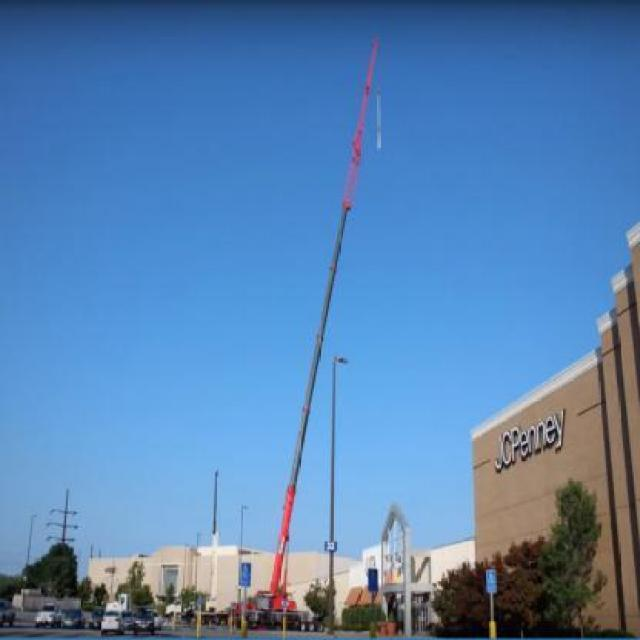Mobile Crane: (228, 36, 386, 629)
